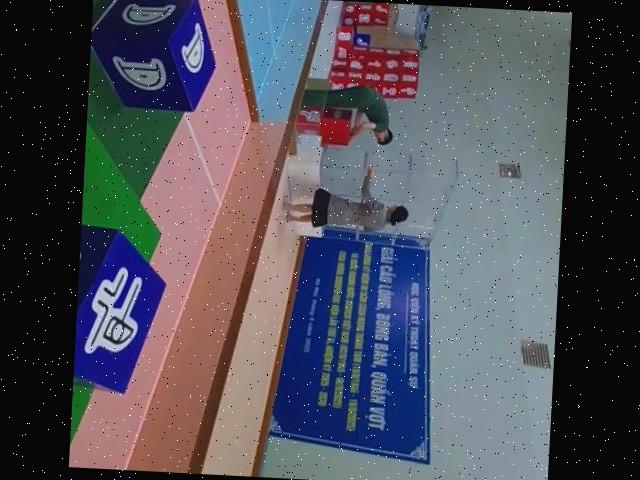R2 Real Blue: (72, 226, 167, 395), (86, 0, 218, 115)
